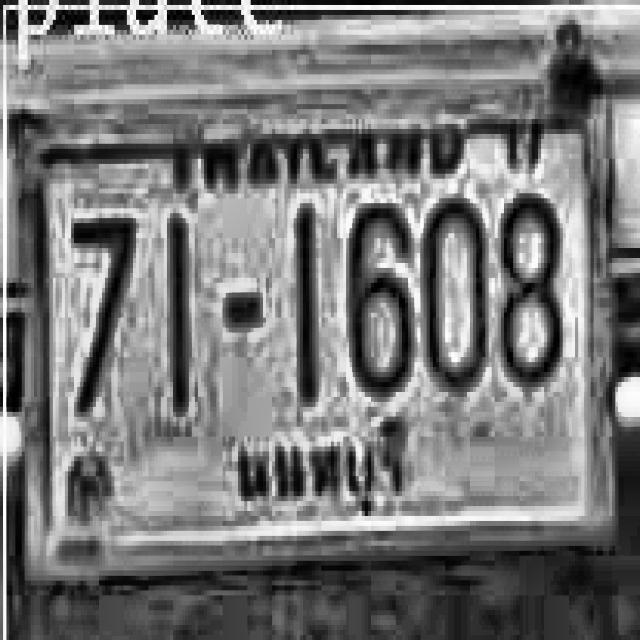license-plate: (21, 71, 621, 584)
